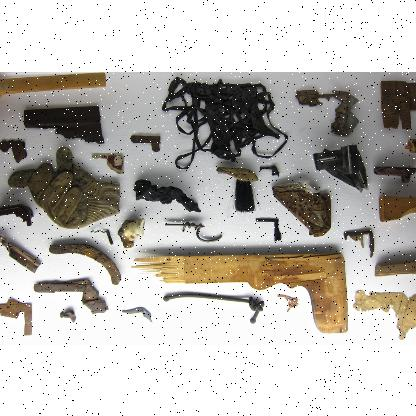gun: (0, 203, 33, 226)
